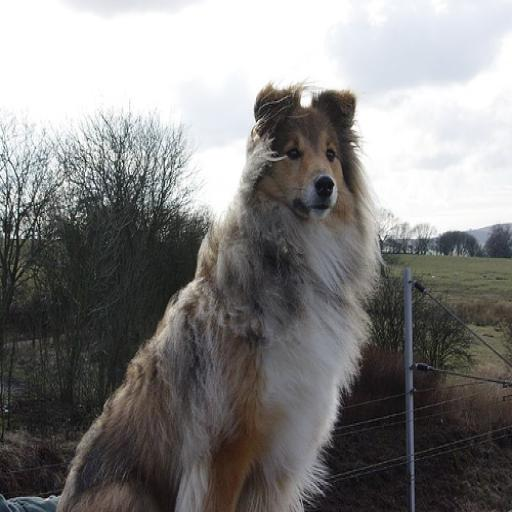dog_face: (252, 83, 362, 231)
